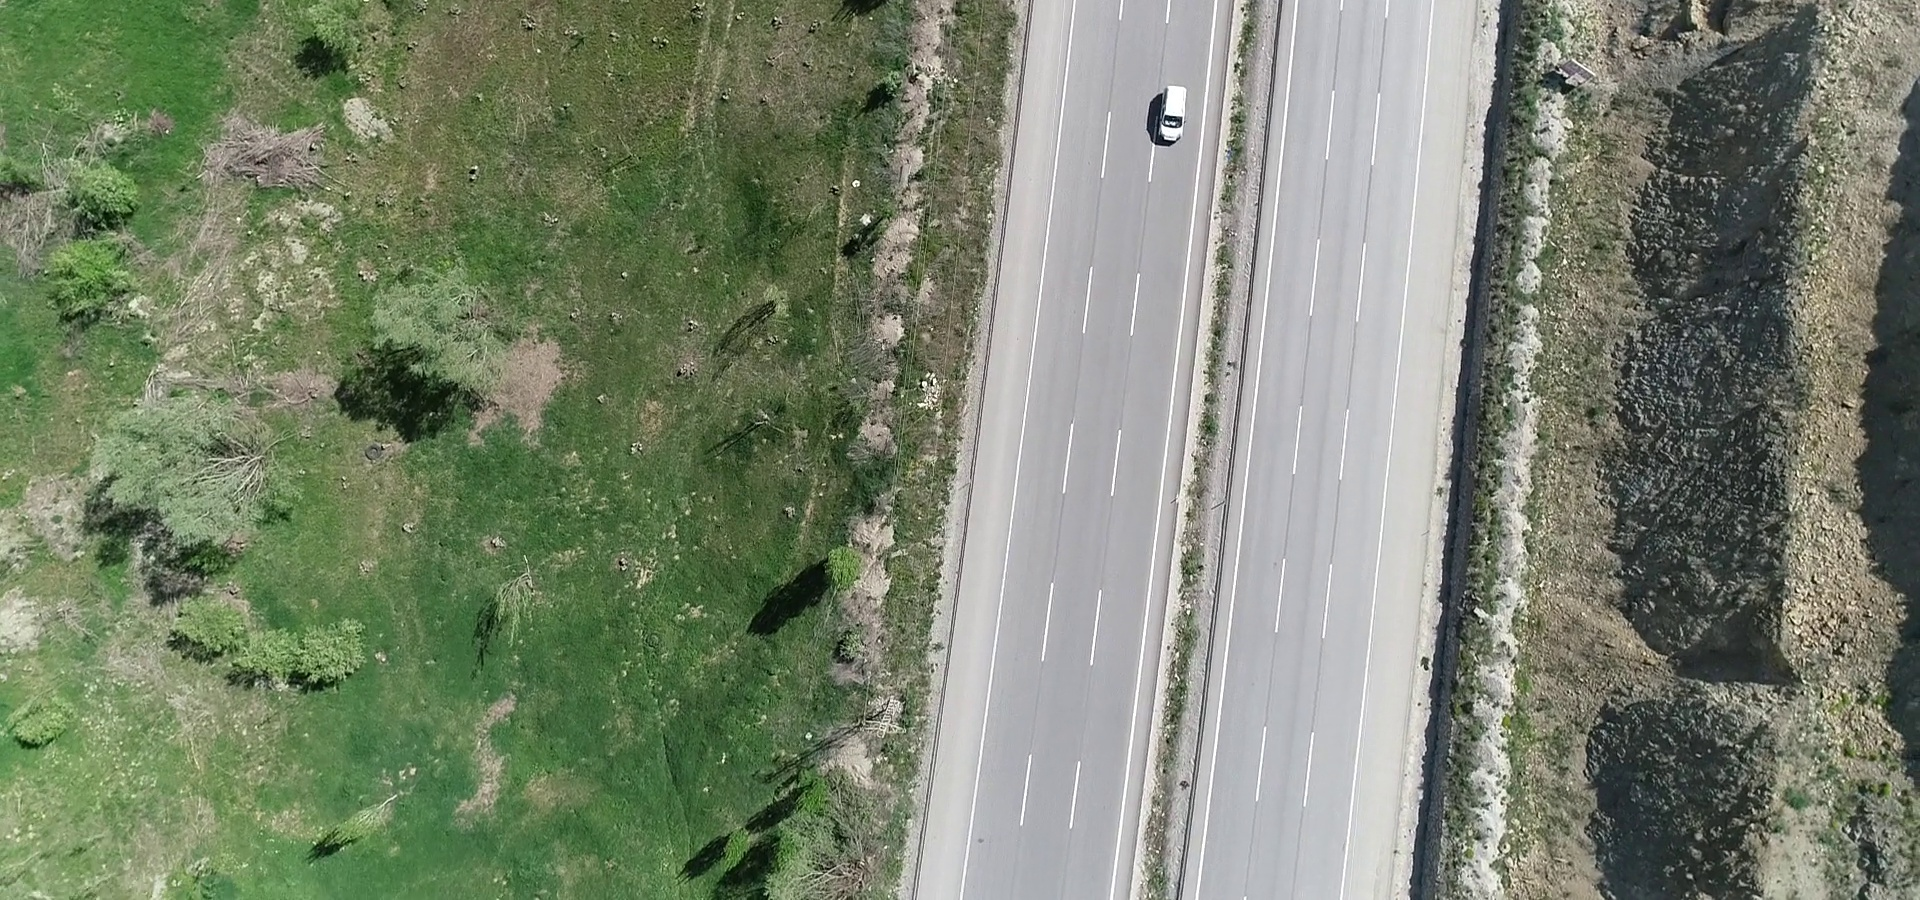araba: (1149, 81, 1191, 149)
